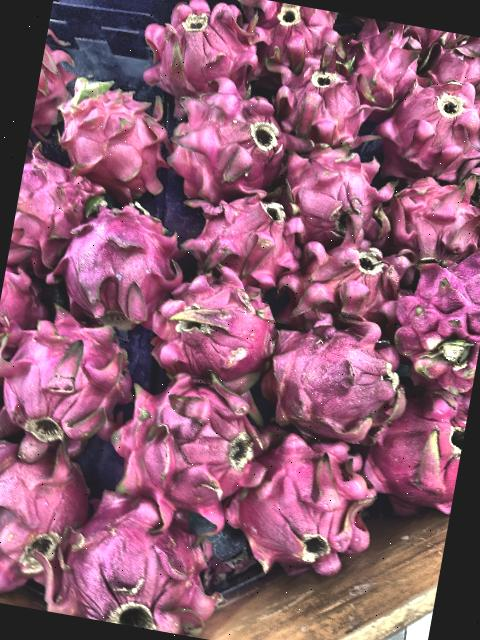buah-naga-matang: (83, 364, 289, 529), (26, 495, 236, 640), (220, 438, 392, 592), (256, 312, 437, 452), (0, 306, 146, 454), (142, 266, 294, 391), (47, 206, 190, 336), (156, 80, 302, 204), (373, 235, 480, 403), (47, 74, 187, 202), (0, 433, 98, 593), (168, 180, 311, 284), (127, 0, 266, 106), (278, 222, 412, 330), (266, 144, 404, 247), (266, 42, 392, 152), (6, 143, 106, 278), (371, 69, 480, 188), (359, 396, 467, 514), (381, 161, 480, 262), (337, 15, 425, 106), (236, 0, 341, 76), (415, 31, 480, 99)
